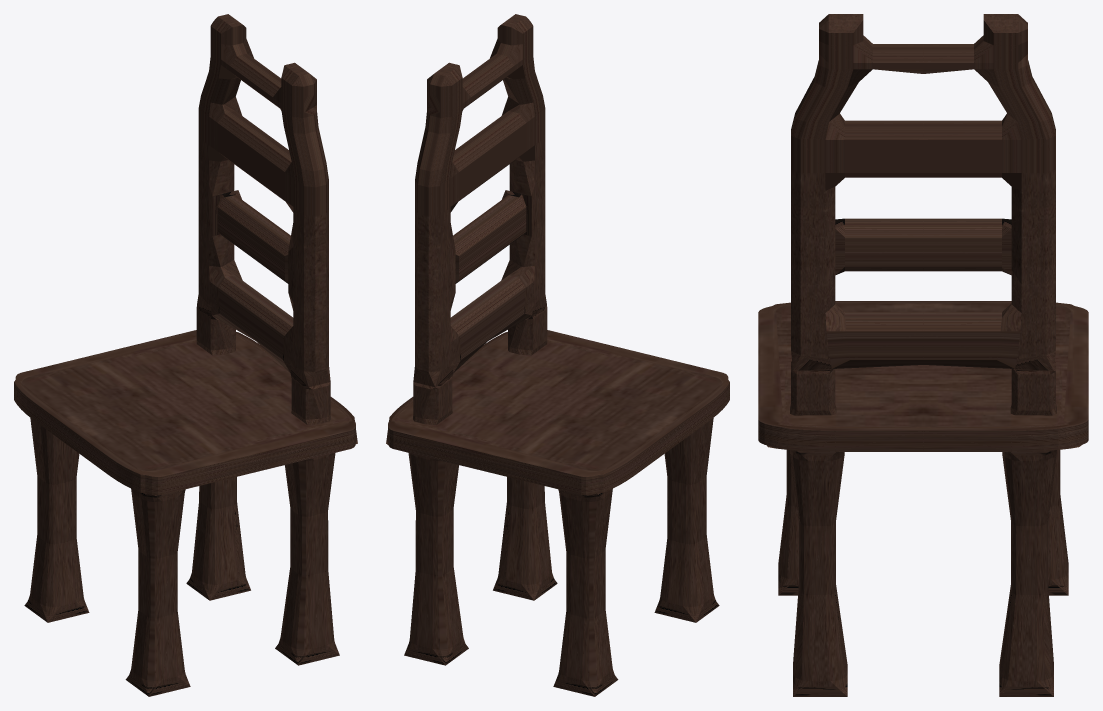
The model's file is longtable.fbx.
3 renders of one model, left to right at view 1: azimuth 30°, elevation 25°; view 2: azimuth 150°, elevation 25°; view 3: azimuth 270°, elevation 25°, orthographic. The views are drawn at different scales.
Visible parts, largest first — view 1: Cube.003; view 2: Cube.003; view 3: Cube.003.
Part boxes in pixels (bbox=[...]): Cube.003: bbox=[14, 14, 357, 696]; Cube.003: bbox=[386, 14, 729, 696]; Cube.003: bbox=[758, 14, 1088, 696].
Size of the model in its own units: 211 by 506 by 227.
